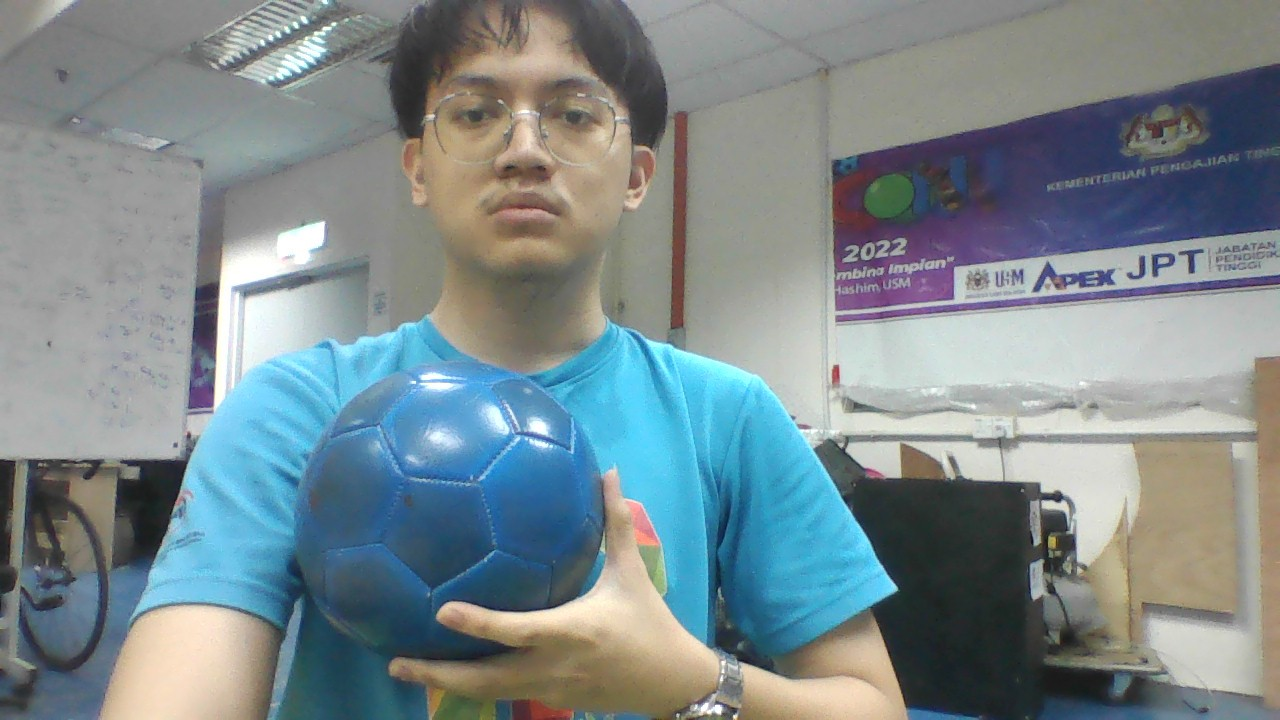Blue: (294, 362, 606, 660)
